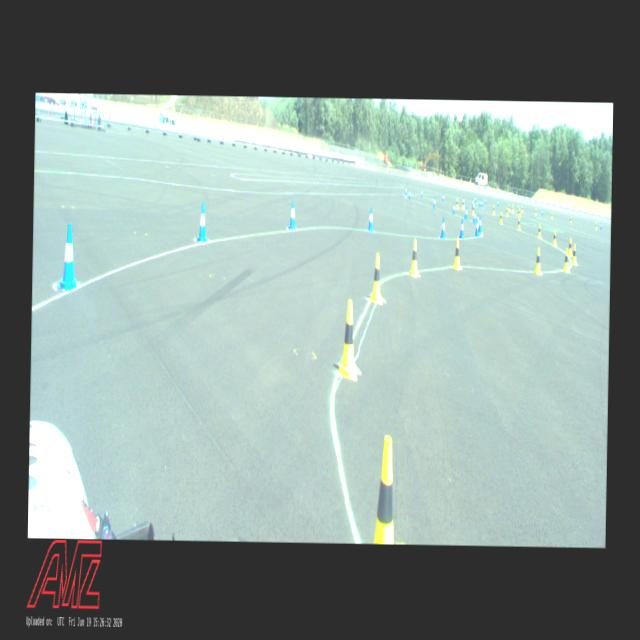blue_cone: (56, 222, 80, 290), (196, 202, 206, 242), (288, 199, 296, 230), (368, 206, 373, 232), (458, 218, 464, 238), (440, 216, 444, 238), (474, 218, 478, 236), (472, 208, 476, 224), (432, 195, 436, 208), (478, 215, 481, 232), (464, 206, 468, 218), (452, 202, 455, 214), (408, 188, 410, 199), (442, 191, 444, 202), (404, 185, 406, 196), (420, 188, 422, 198), (476, 211, 478, 217)
yellow_cone: (373, 435, 396, 542), (338, 300, 358, 378), (370, 252, 382, 302), (409, 238, 419, 276), (452, 238, 460, 270), (534, 248, 542, 274), (562, 248, 570, 272), (570, 243, 576, 264), (568, 238, 572, 255), (552, 230, 556, 246), (537, 224, 541, 238), (516, 217, 520, 230), (499, 211, 502, 224), (471, 202, 474, 215), (492, 204, 495, 214), (455, 198, 458, 208), (462, 198, 464, 208), (506, 207, 508, 216), (508, 204, 510, 212), (534, 207, 536, 215), (511, 206, 513, 213), (520, 205, 522, 212)
